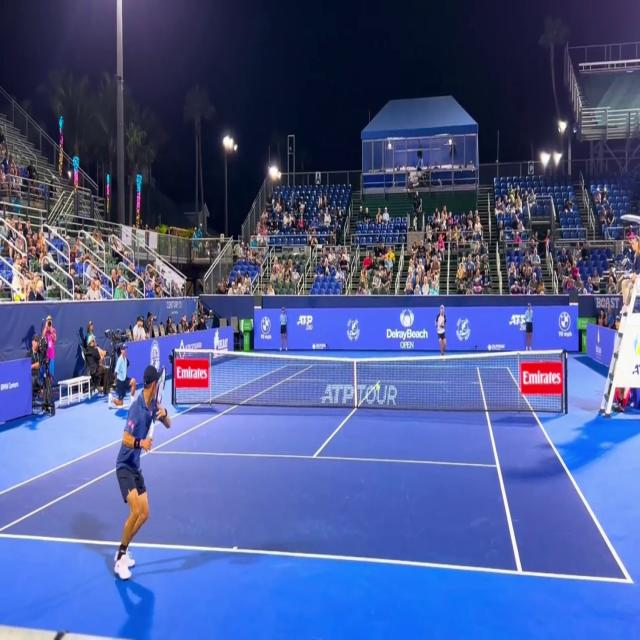tennisBall: (374, 379, 382, 396)
